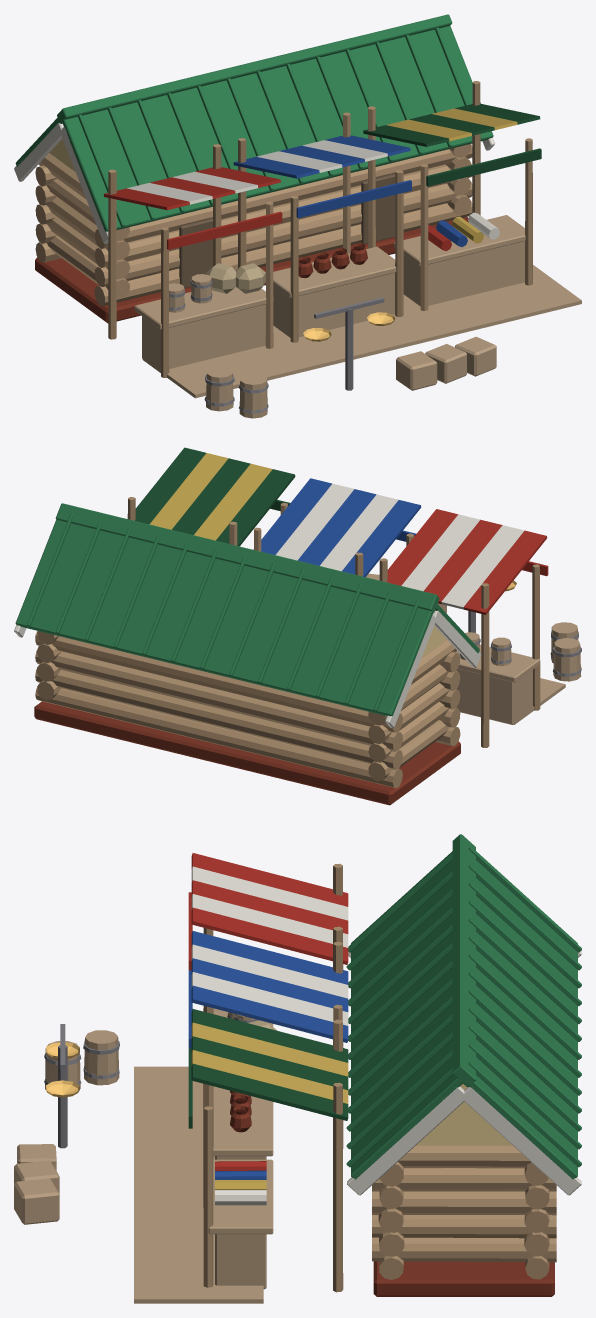
Rendered from bld_market_e2.glb.
3 renders of one model, top to bottom at view 1: azimuth 30°, elevation 25°; view 2: azimuth 150°, elevation 25°; view 3: azimuth 270°, elevation 25°, orthographic. The views are drawn at different scales.
Visible parts, largest first — view 1: market; view 2: market; view 3: market.
Part boxes in pixels (x1,y1,x2,y2): market: (14, 14, 581, 418); market: (14, 447, 581, 805); market: (14, 834, 581, 1303).
Bounding box in the file's own units: 1.72 × 0.8091 × 1.75.
